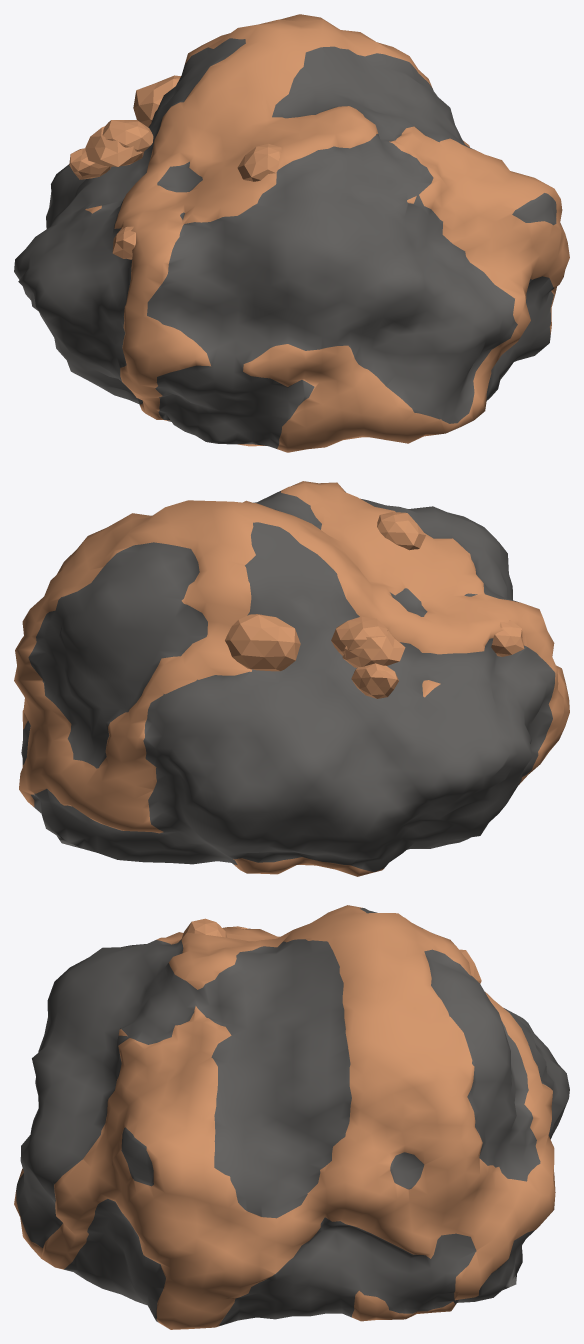
The model's file is copper_deep.glb.
3 views of the same model, one above another, from view 1: azimuth 30°, elevation 25°; view 2: azimuth 150°, elevation 25°; view 3: azimuth 270°, elevation 25° (orthographic). The views are drawn at different scales.
Parts seen in each view (by area): view 1: copper_deep; view 2: copper_deep; view 3: copper_deep.
Part boxes in pixels (bbox=[...]): copper_deep: bbox=[14, 14, 569, 452]; copper_deep: bbox=[14, 481, 569, 876]; copper_deep: bbox=[14, 905, 569, 1329].
Size of the model in its own units: 1.99 by 1.21 by 1.91.
